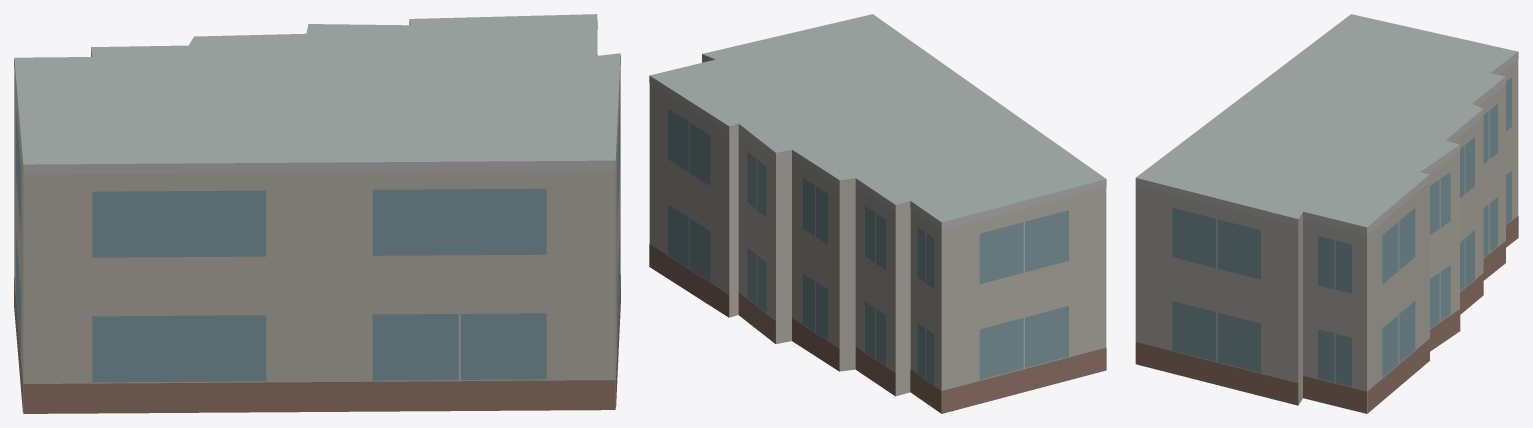
File: survey-upis-32978627.glb
The picture shows the model from 3 angles, left to right: view 1: azimuth 30°, elevation 25°; view 2: azimuth 150°, elevation 25°; view 3: azimuth 270°, elevation 25°; orthographic projection. The views are drawn at different scales.
Visible parts, largest first — view 1: survey-upis-32978627.tmp; view 2: survey-upis-32978627.tmp; view 3: survey-upis-32978627.tmp.
Boxes of the visible parts, x1,y1,x2,y2 form: survey-upis-32978627.tmp: [14, 14, 620, 413]; survey-upis-32978627.tmp: [649, 14, 1106, 413]; survey-upis-32978627.tmp: [1135, 14, 1518, 413].
Size of the model in its own units: 14.98 by 6.1 by 11.36.
